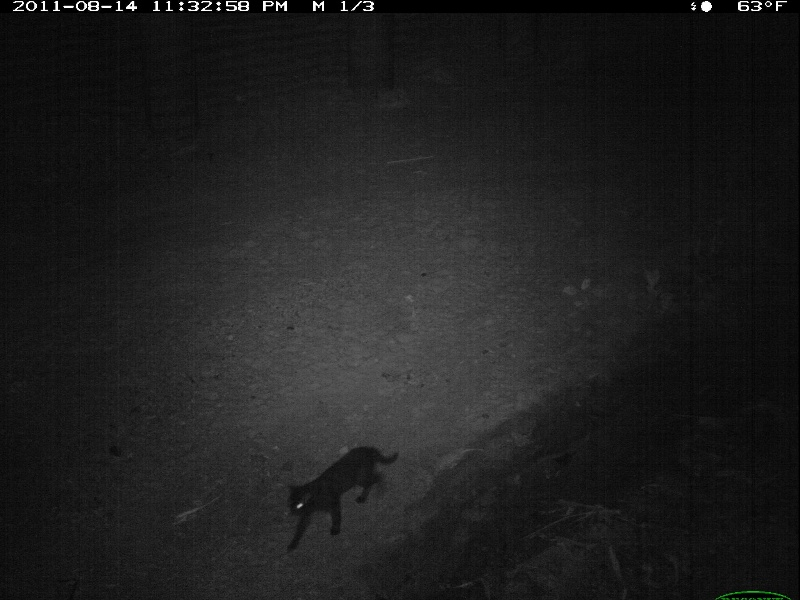cat: (284, 444, 402, 556)
